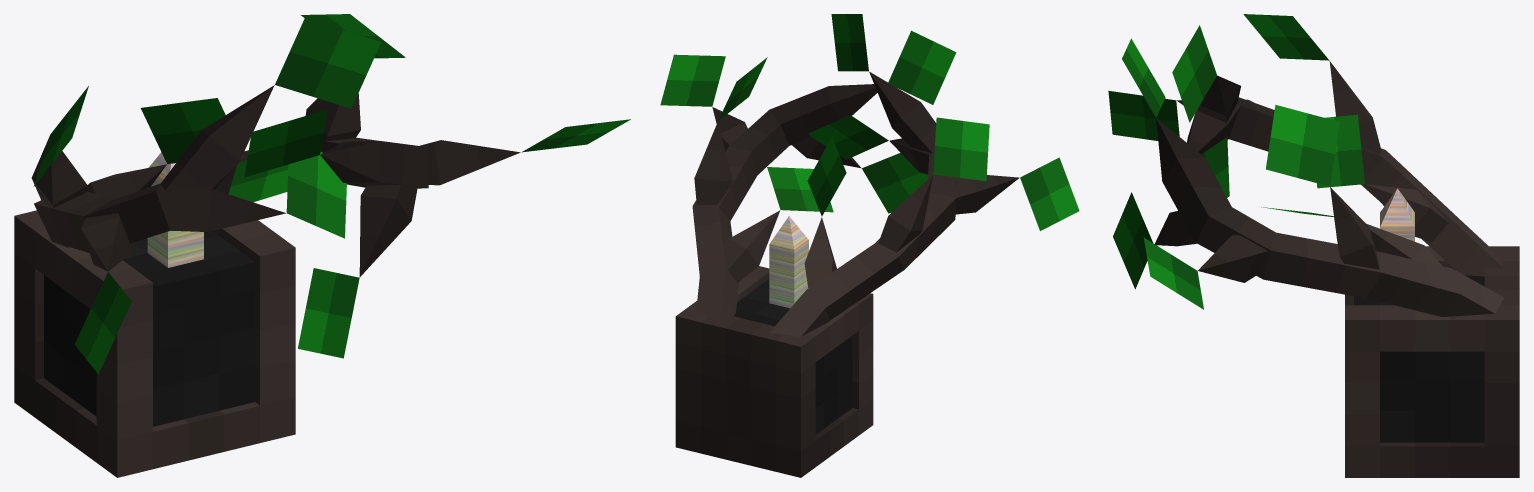
File: head_smart.obj
3 renders of one model, left to right at view 1: azimuth 30°, elevation 25°; view 2: azimuth 150°, elevation 25°; view 3: azimuth 270°, elevation 25°, orthographic. The views are drawn at different scales.
Parts seen in each view (by area): view 1: HEAD_SMART_WOOD_Cube.075; view 2: HEAD_SMART_WOOD_Cube.075; view 3: HEAD_SMART_WOOD_Cube.075.
Boxes of the visible parts, x1,y1,x2,y2 form: HEAD_SMART_WOOD_Cube.075: (14,14,630,477); HEAD_SMART_WOOD_Cube.075: (660,14,1079,477); HEAD_SMART_WOOD_Cube.075: (1108,14,1519,477).
Size of the model in its own units: 0.9727 by 0.8329 by 0.7367.
